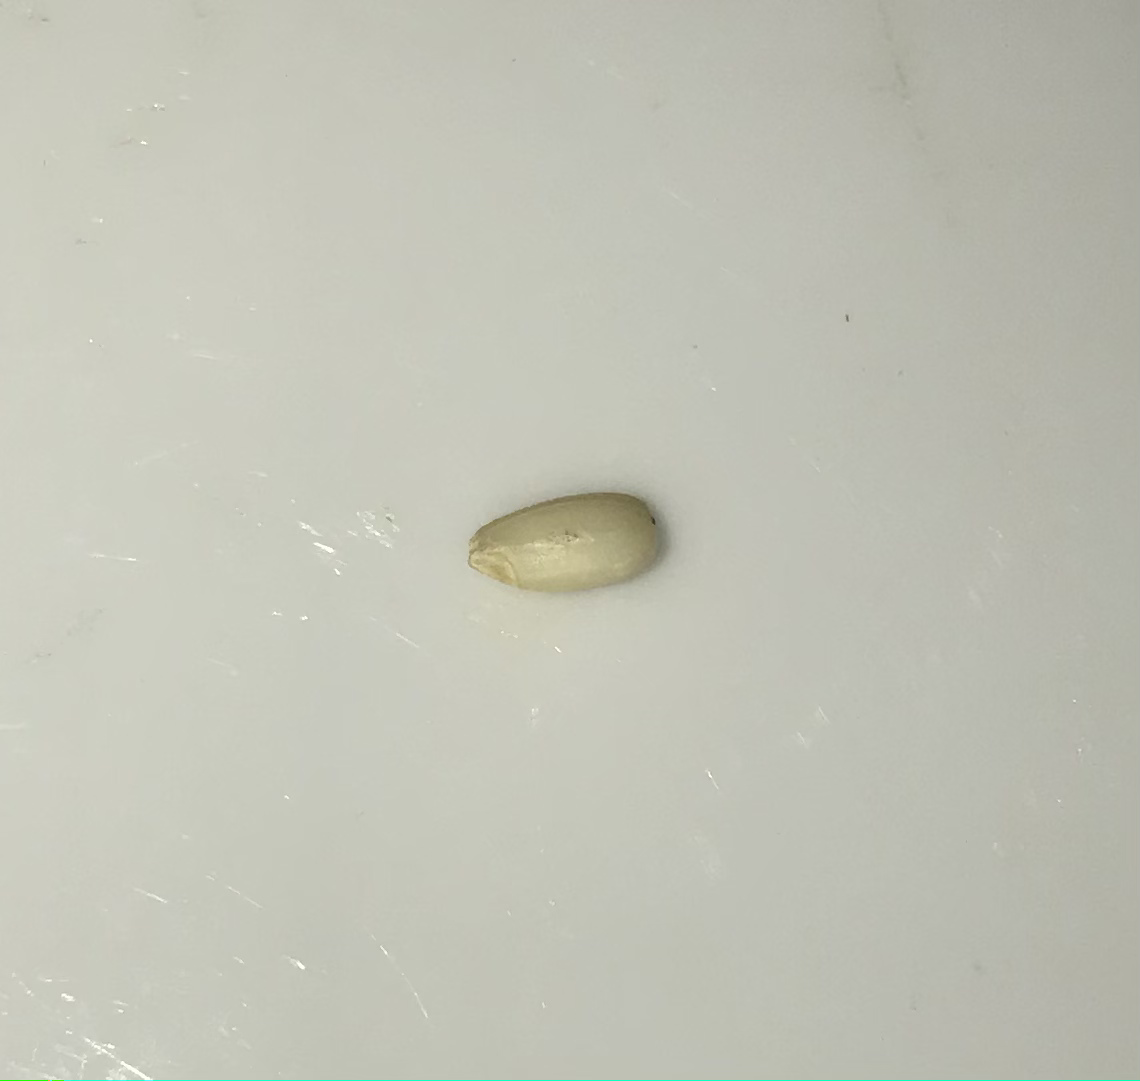Gao Lut Bac: (468, 489, 676, 614)
